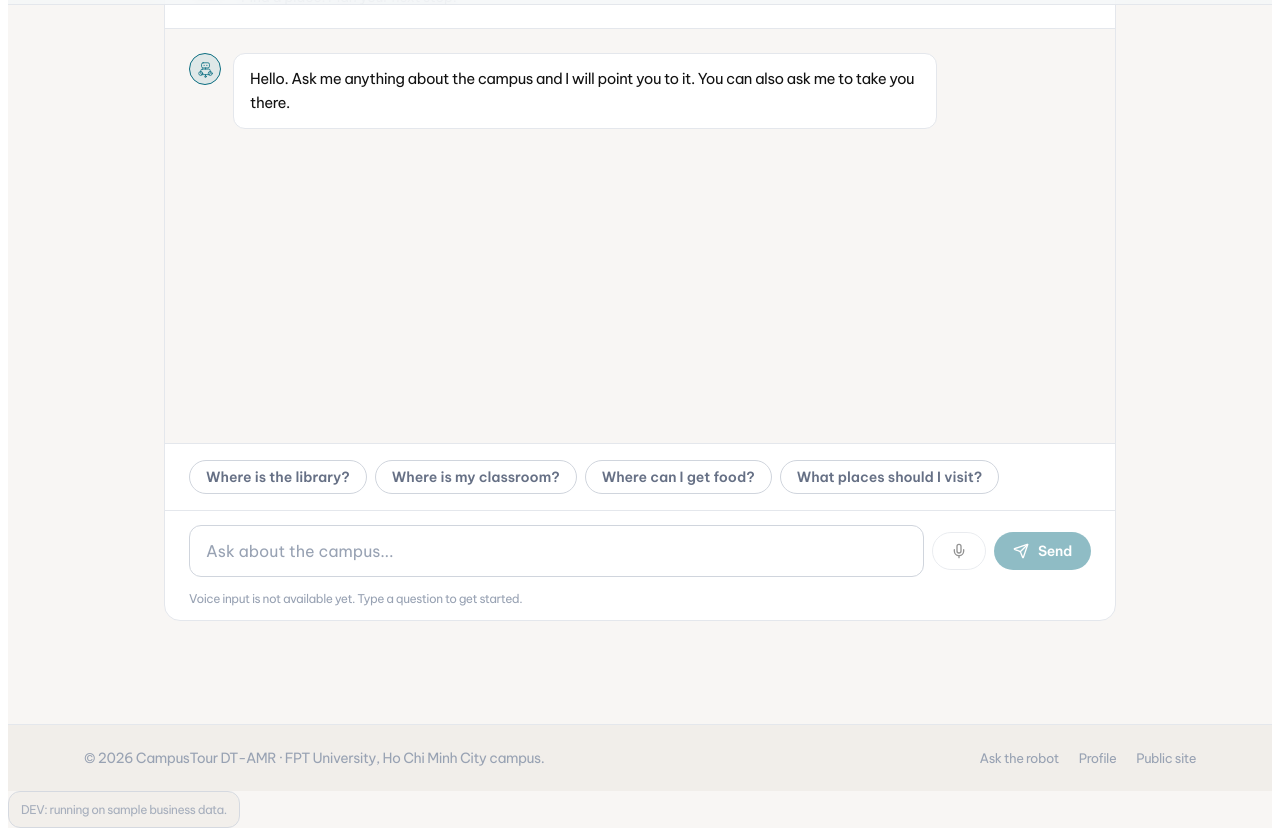
visitor journeys › turns an assistant answer into actionable location links
(page scrolled)
Type "Where is the library?" into the field labelled "Ask about the campus" at (556, 551), box [189,525,924,577]
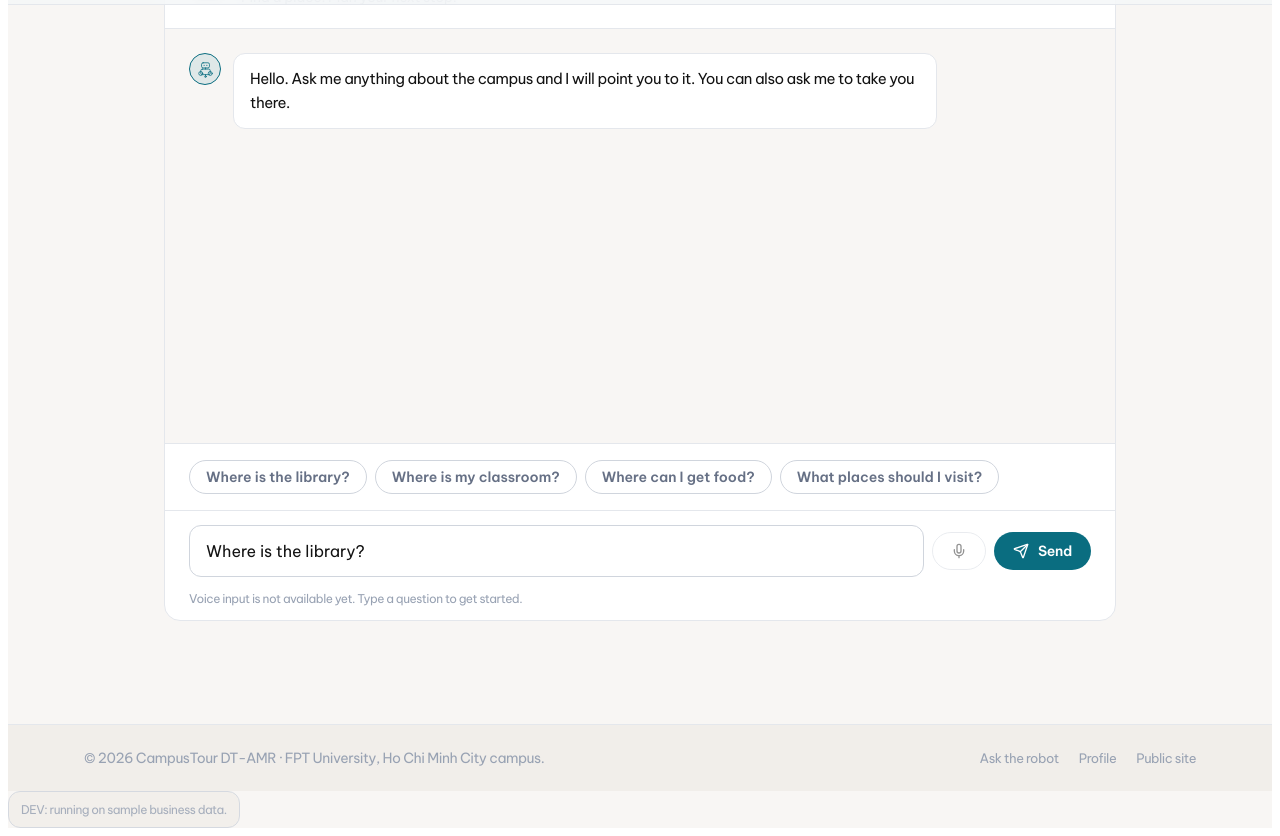
Click the button "Send" at (1042, 551), box [994,532,1091,570]
(page scrolled)
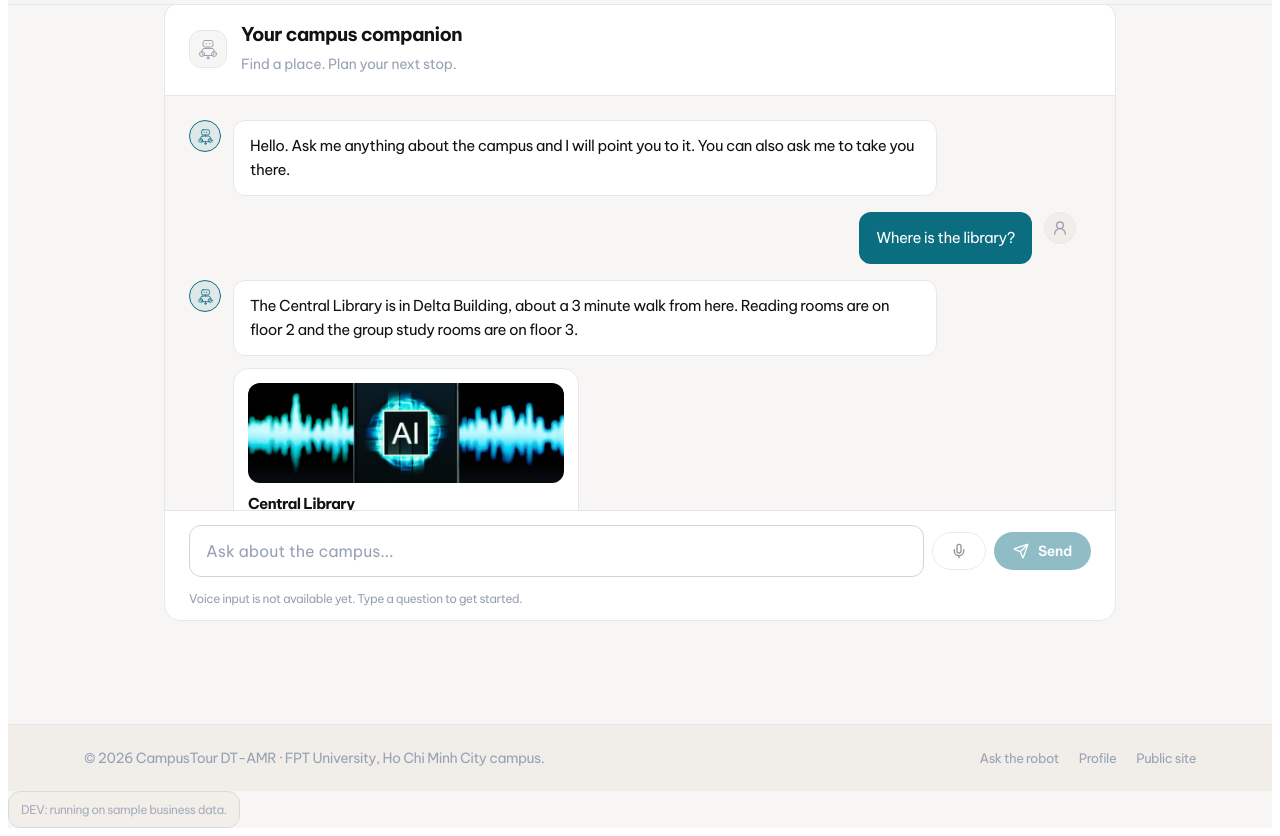
Result: the element named "Conversation with the campus assistant" shows "Where is the library?" at [876,228,1015,247]
Result: the field is empty at [189,525,924,577]
